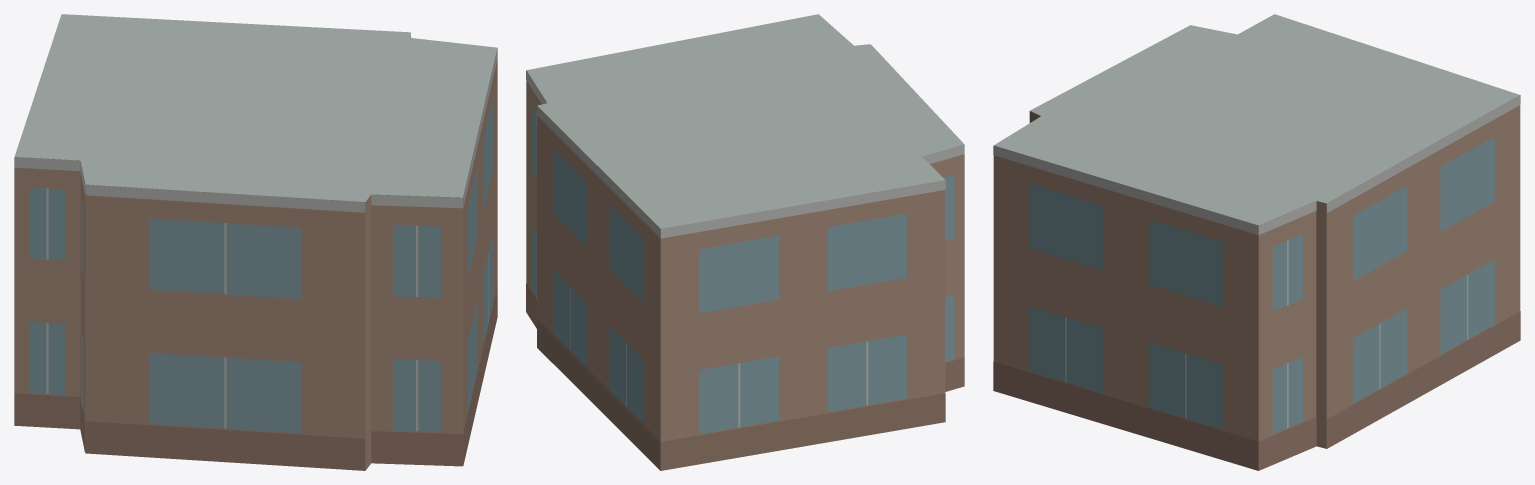
Rendered from survey-upis-32491492.glb.
3 renders of one model, left to right at view 1: azimuth 30°, elevation 25°; view 2: azimuth 150°, elevation 25°; view 3: azimuth 270°, elevation 25°, orthographic. The views are drawn at different scales.
Parts seen in each view (by area): view 1: survey-upis-32491492.tmp; view 2: survey-upis-32491492.tmp; view 3: survey-upis-32491492.tmp.
Part boxes in pixels (<box>): survey-upis-32491492.tmp: <box>14,14,497,470</box>; survey-upis-32491492.tmp: <box>526,14,964,470</box>; survey-upis-32491492.tmp: <box>993,14,1520,470</box>.
Bounding box in the file's own units: 11.28 × 6.1 × 11.87.
